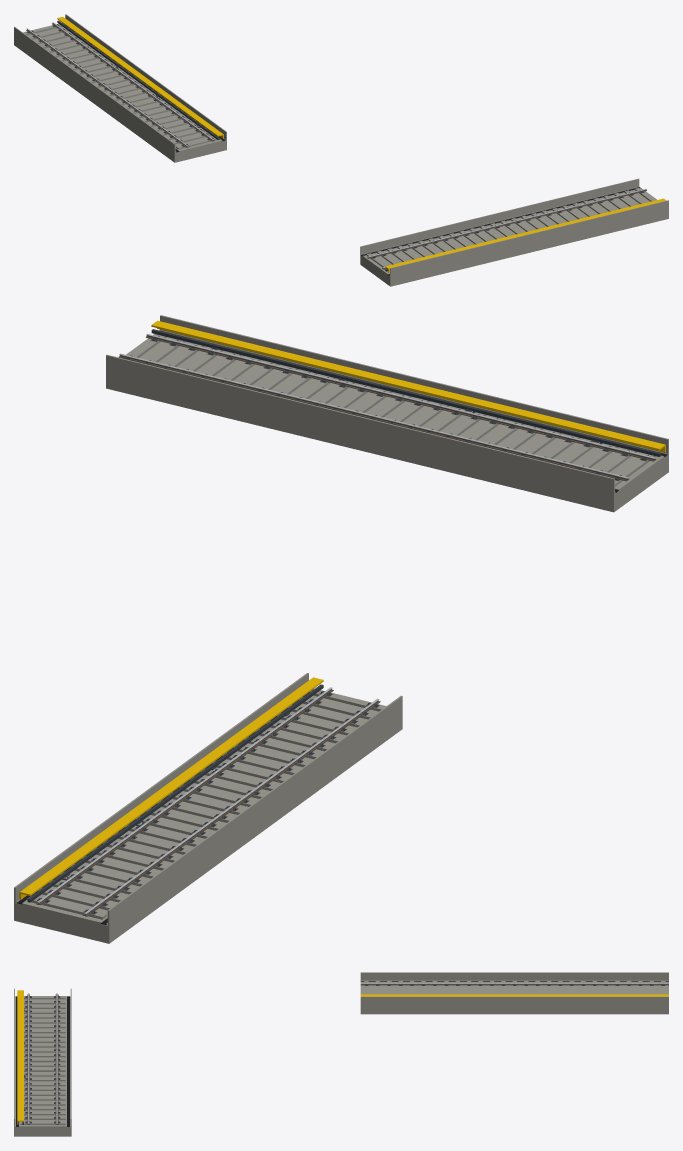
File: TrackKit.glb
The picture shows the model from 3 angles, top to bottom: view 1: azimuth 30°, elevation 25°; view 2: azimuth 150°, elevation 25°; view 3: azimuth 270°, elevation 25°; orthographic projection. The views are drawn at different scales.
Parts seen in each view (by area): view 1: track-trench-wall (×4), concrete sleepers (×2), track-bed (×2), track-kit-waysideconcrete-025, track-kit-waysideconcrete-001, third-rail-guard (×2), track-kit-darksteel-036, track-kit-black-009, track-running-rail, track-kit-trackrailweb-004, rail seats; view 2: track-trench-wall (×4), track-bed (×2), concrete sleepers (×2), third-rail-guard (×2), track-kit-waysideconcrete-025, track-kit-waysideconcrete-001, track-running-rail (×4), track-kit-darksteel-012, track-kit-darksteel-036, rail seats, track-kit-trackrailweb-002, track-kit-trackrailweb-004 (+2 smaller); view 3: track-trench-wall (×3), concrete sleepers (×2), track-bed (×2), track-kit-waysideconcrete-001, track-kit-waysideconcrete-025, third-rail-guard (×2), track-kit-trackrailweb-028, track-kit-trackrailweb-004, rail seats, track-kit-black-009, track-running-rail, track-kit-waysideconcrete-035 (+2 smaller).
Part boxes in pixels (x1,y1,x2,y2): track-trench-wall (×4): (14, 14, 668, 276); concrete sleepers (×2): (23, 23, 655, 267); track-bed (×2): (14, 35, 668, 286); track-kit-waysideconcrete-025: (23, 23, 221, 151); track-kit-waysideconcrete-001: (363, 188, 656, 274); third-rail-guard (×2): (57, 16, 666, 269); track-kit-darksteel-036: (57, 20, 219, 139); track-kit-black-009: (361, 187, 640, 256); track-running-rail: (368, 189, 646, 257); track-kit-trackrailweb-004: (367, 190, 646, 258); rail seats: (26, 24, 214, 146); track-trench-wall (×4): (14, 315, 668, 925); track-bed (×2): (14, 370, 668, 943); concrete sleepers (×2): (27, 334, 656, 919); third-rail-guard (×2): (20, 320, 665, 895); track-kit-waysideconcrete-025: (22, 690, 386, 923); track-kit-waysideconcrete-001: (126, 334, 664, 490); track-running-rail (×4): (37, 333, 655, 914); track-kit-darksteel-012: (151, 329, 661, 456); track-kit-darksteel-036: (27, 684, 323, 902); rail seats: (37, 691, 379, 914); track-kit-trackrailweb-002: (145, 336, 656, 461); track-kit-trackrailweb-004: (119, 356, 629, 481); track-trench-wall (×3): (70, 972, 668, 1126); concrete sleepers (×2): (20, 981, 665, 1124); track-bed (×2): (14, 997, 668, 1136); track-kit-waysideconcrete-001: (19, 996, 66, 1126); track-kit-waysideconcrete-025: (360, 982, 668, 994); third-rail-guard (×2): (17, 990, 668, 1121); track-kit-trackrailweb-028: (360, 984, 668, 985); track-kit-trackrailweb-004: (55, 994, 58, 1124); rail seats: (25, 996, 60, 1123); track-kit-black-009: (67, 996, 69, 1126); track-running-rail: (360, 983, 668, 983); track-kit-waysideconcrete-035: (360, 980, 668, 980).
Bounding box in the file's own units: 18 × 1 × 34.
7 materials, 1 textured.
